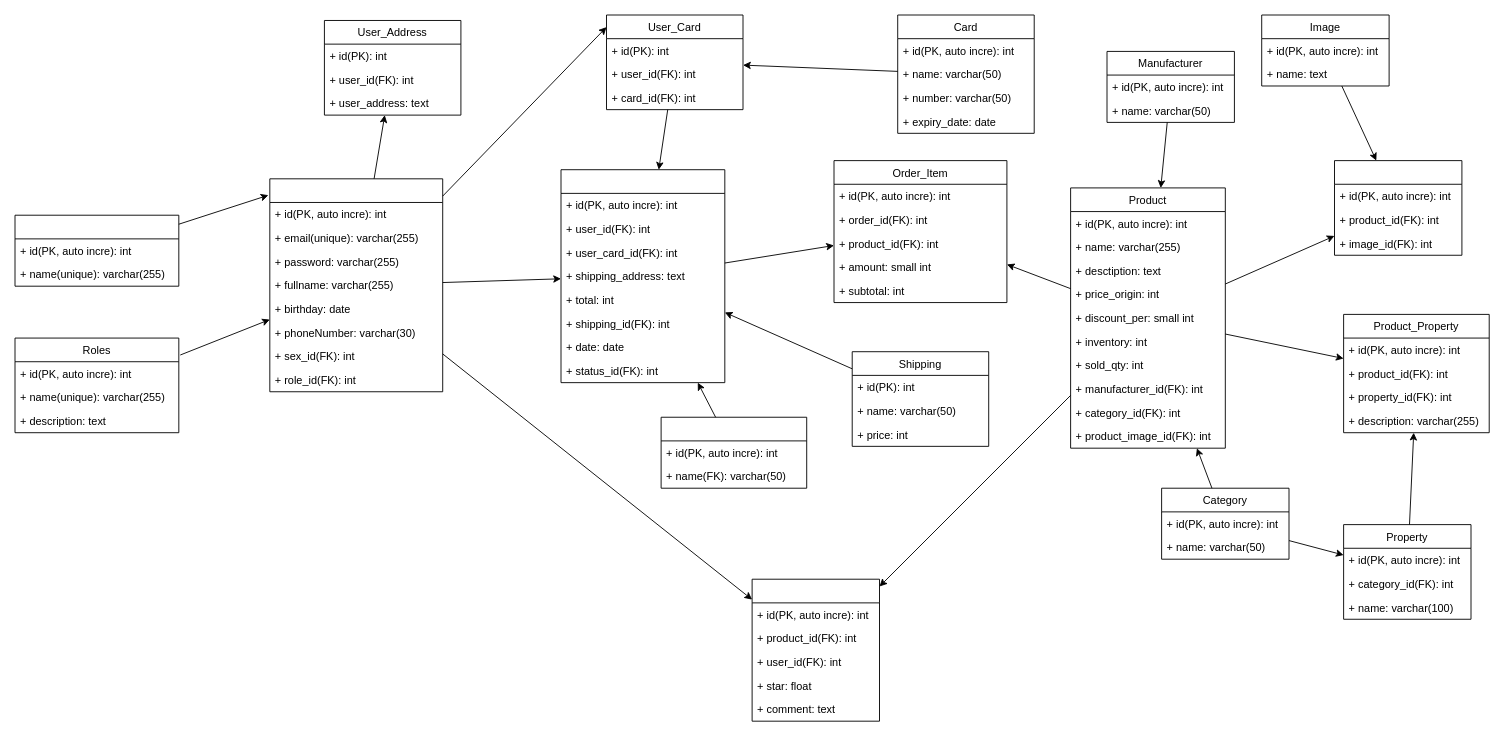
Image size: 1504x736. Some labels were removed from this diagram. The shapes that lost their labels are listed below. From the top down, each one's box as (x1, y1, x2, y2) in pixels, then its label:
(1334, 160, 1462, 255): Product_Image
(14, 214, 179, 286): Sex
(269, 178, 443, 392): Users
(560, 169, 725, 383): Order
(660, 416, 807, 488): Order_status
(751, 578, 880, 721): Product_Rating
